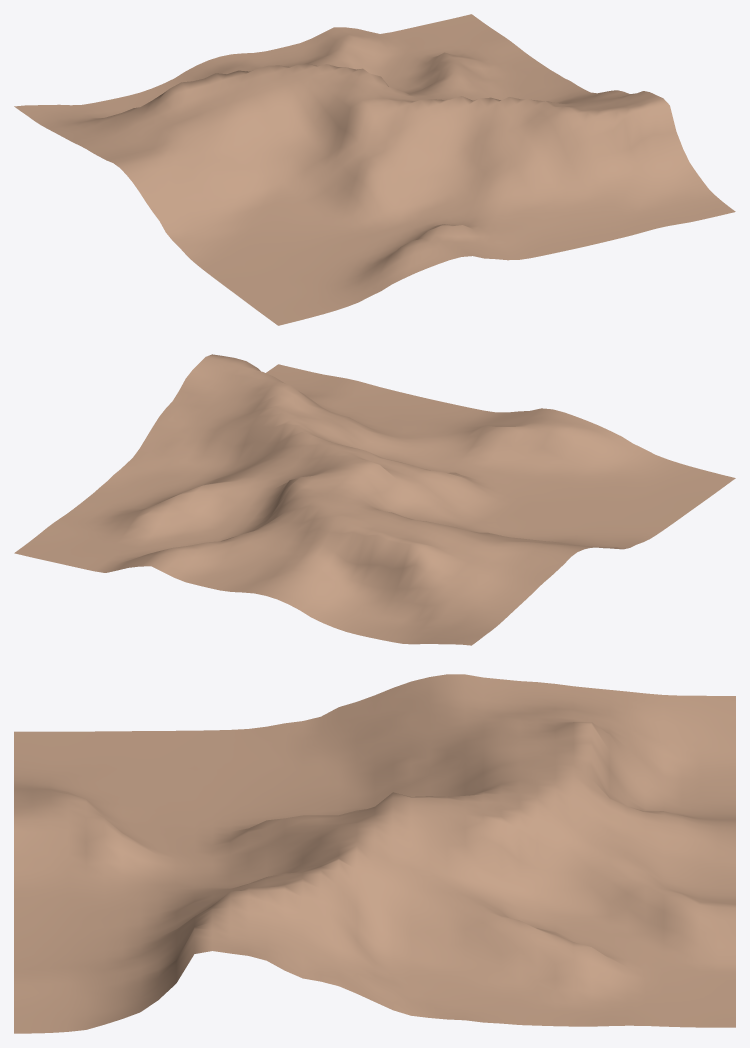
3 views of the same model, one above another, from view 1: azimuth 30°, elevation 25°; view 2: azimuth 150°, elevation 25°; view 3: azimuth 270°, elevation 25° (orthographic). The views are drawn at different scales.
Visible parts, largest first — view 1: DM_lod_1; view 2: DM_lod_1; view 3: DM_lod_1.
Part boxes in pixels (x1,y1,x2,y2): DM_lod_1: (14, 14, 735, 325); DM_lod_1: (14, 354, 735, 645); DM_lod_1: (14, 674, 735, 1033).
Size of the model in its own units: 300 by 39.58 by 300.
